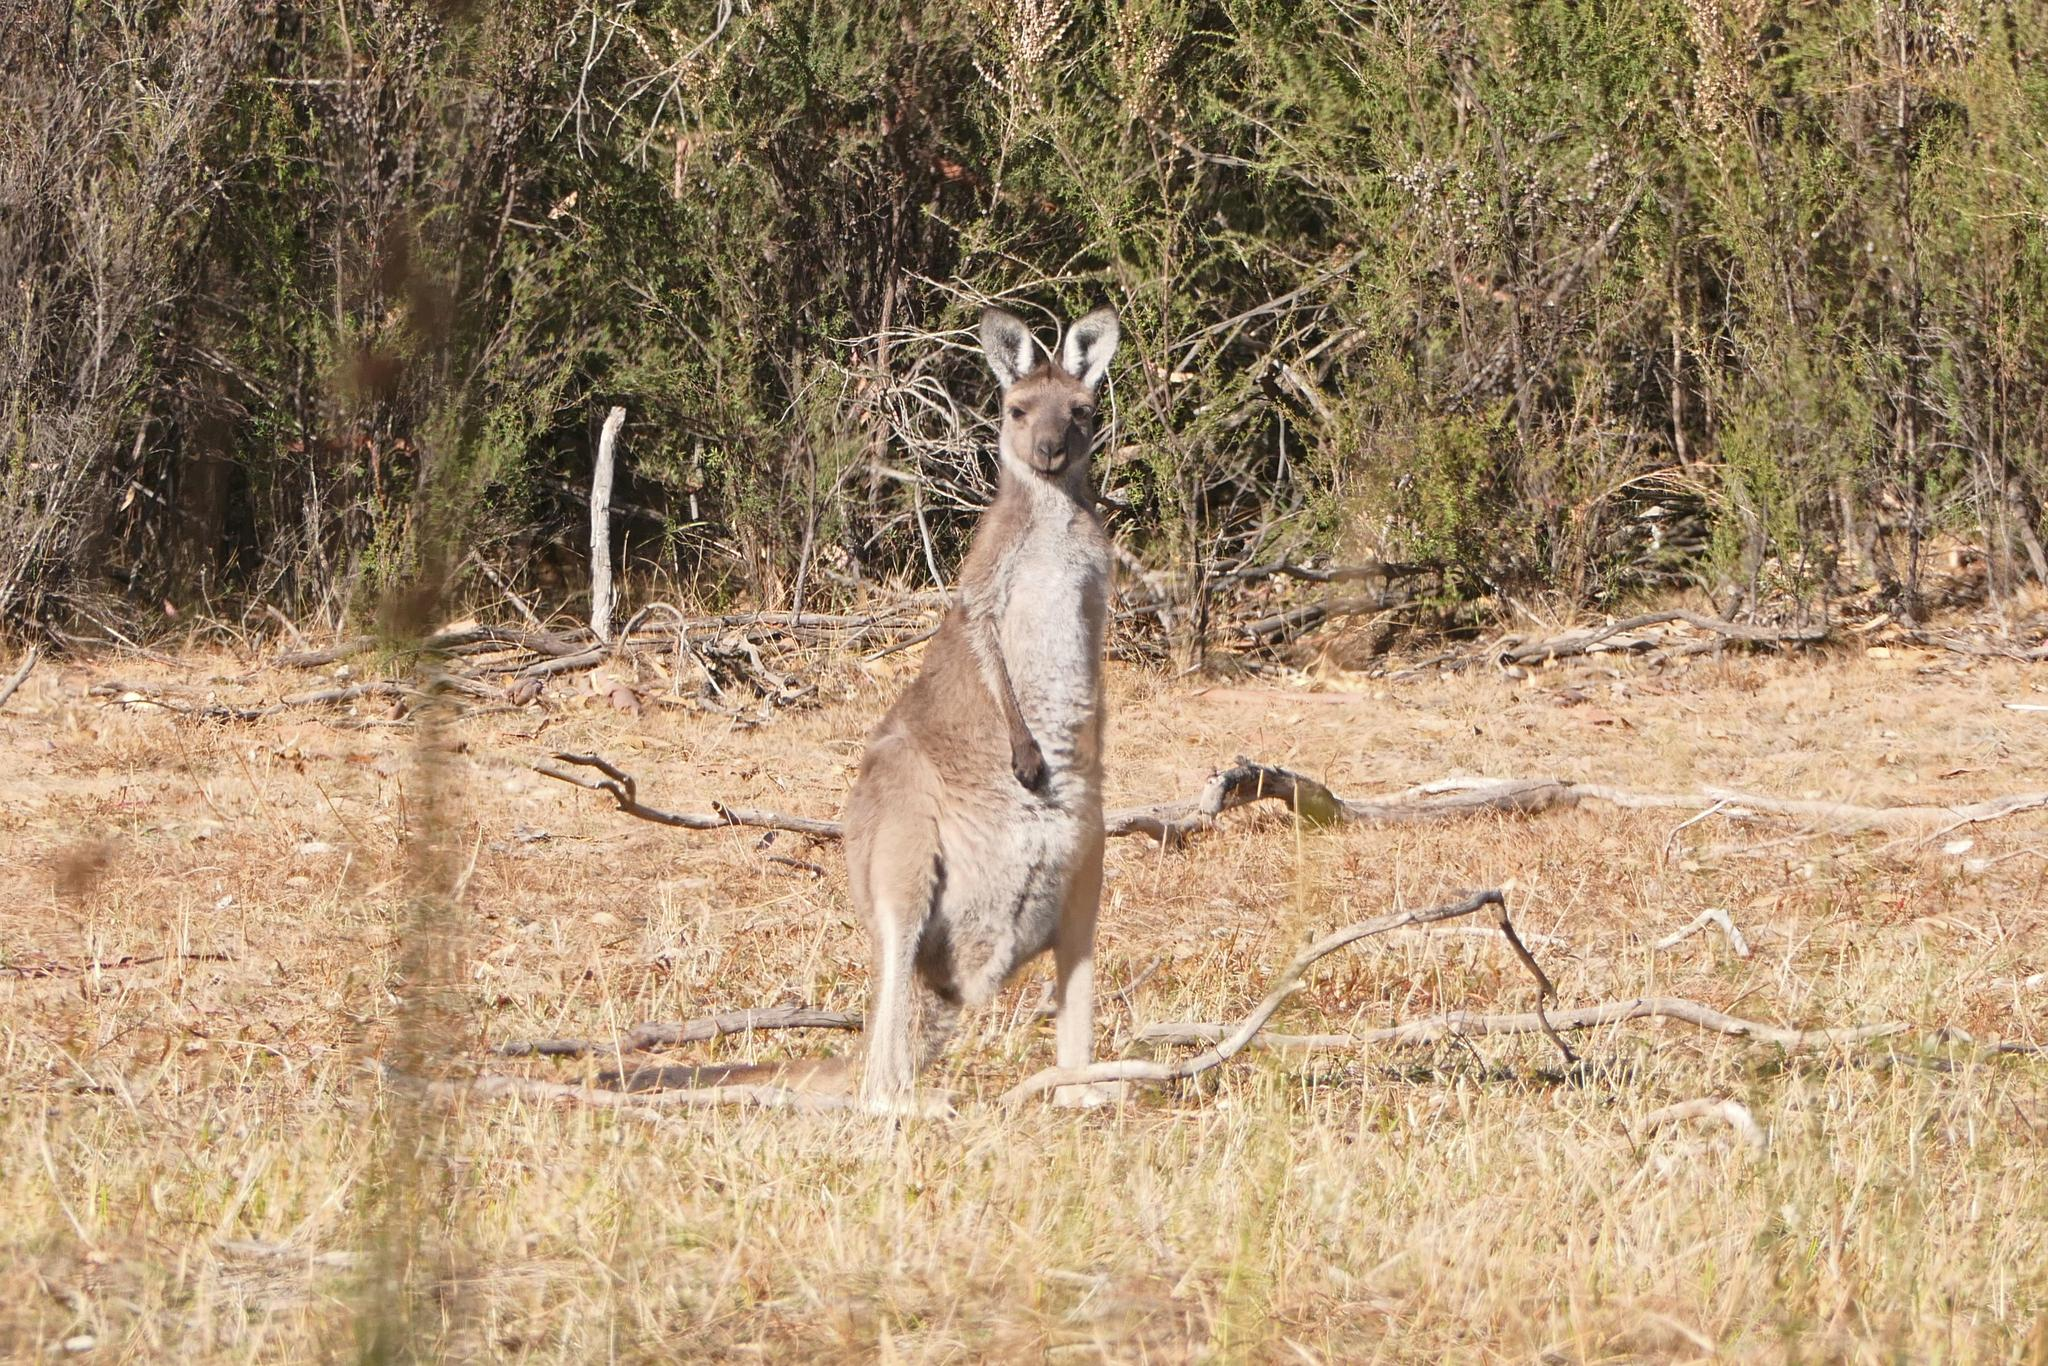Western grey kangaroo: (562, 300, 1132, 1128)
